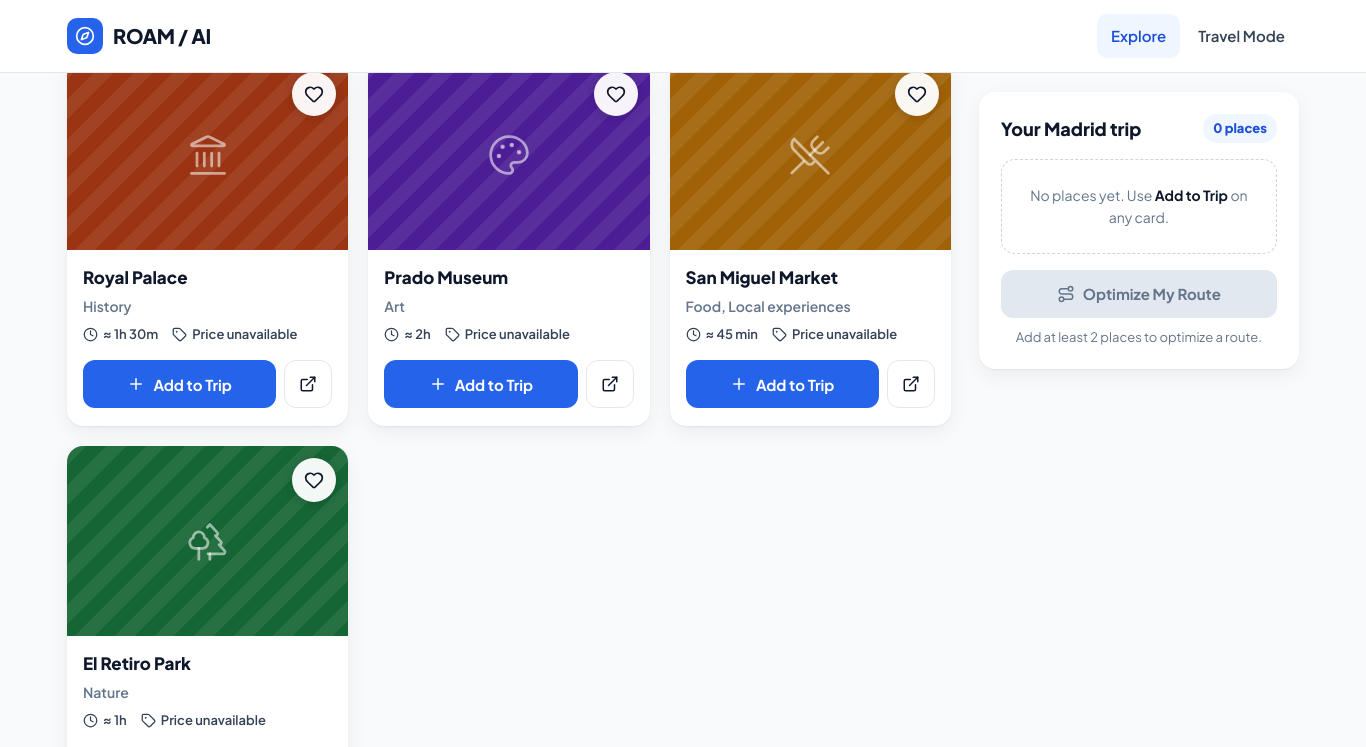
it: ExplorePage › adds places to the trip panel, totals the time, and saves them
(page scrolled)
Check: the link "Royal Palace" is shown, box 83,266 -> 188,288
Check: the text "No places yet. Use Add to Trip on any card." is shown, box 1001,160 -> 1277,254
Click the button with aria-label "Add Royal Palace to trip".
click(180, 384)  # box 83,360 -> 276,408
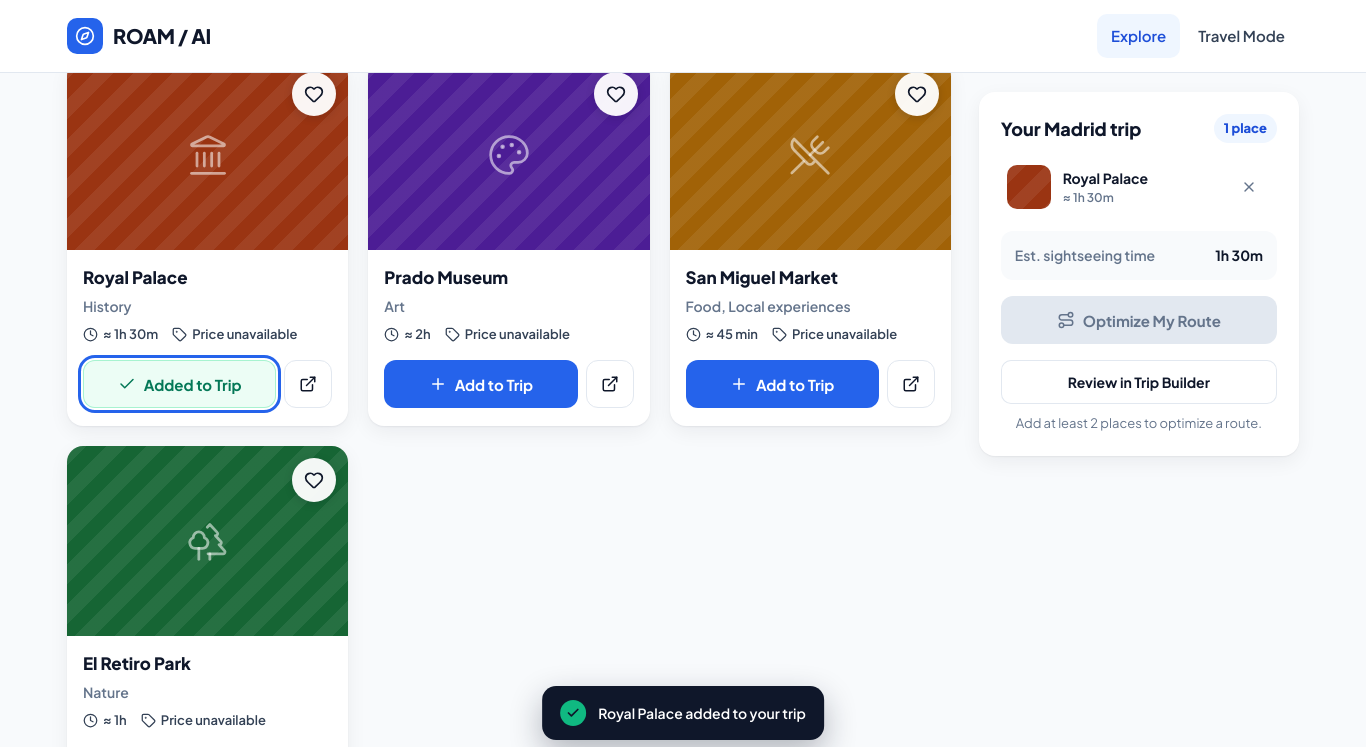
Check: the message reads "Royal Palace added to your trip", box 598,704 -> 806,722
Click the button with aria-label "Add Prado Museum to trip".
click(481, 384)  # box 384,360 -> 578,408
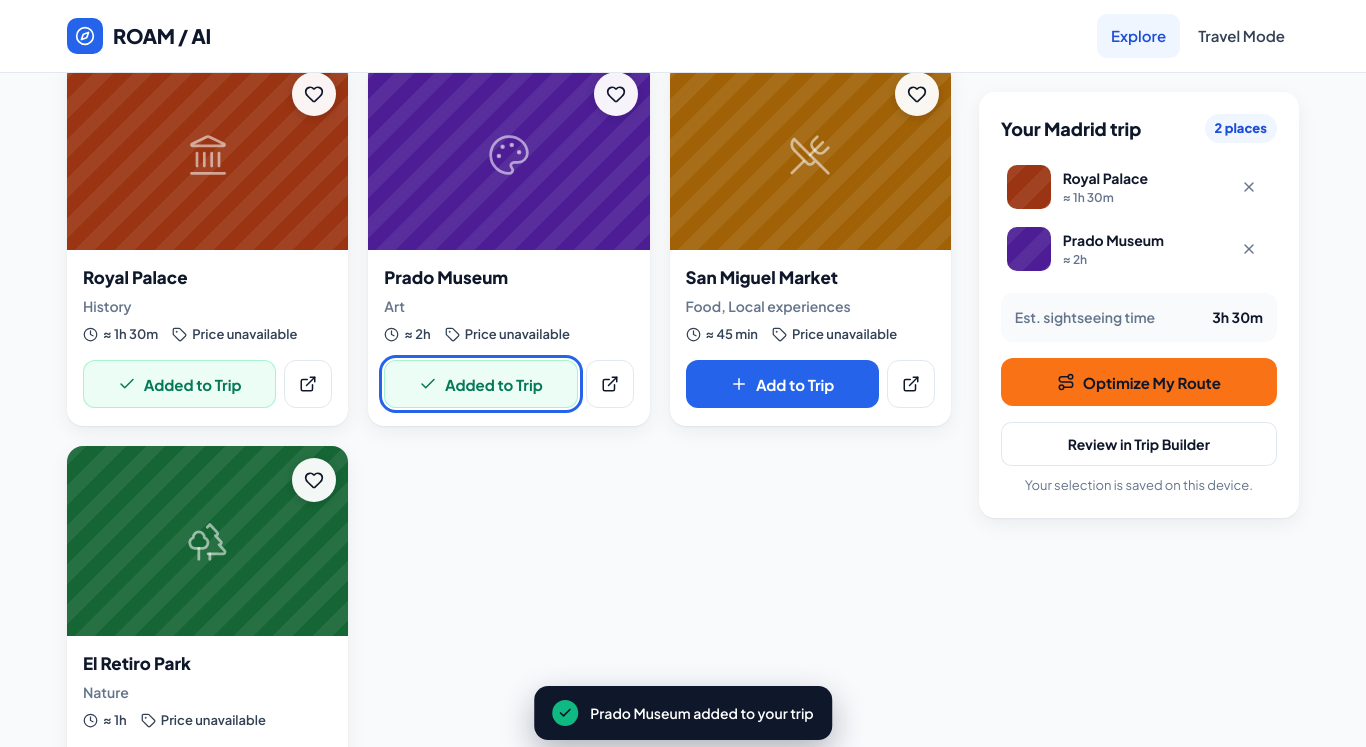
Check: the text "2 places" is shown, box 1205,114 -> 1277,144
Check: the text "3h 30m" is shown, box 1212,308 -> 1263,328
Click the button named "Remove Royal Palace".
click(1249, 188)  # box 1227,166 -> 1271,210
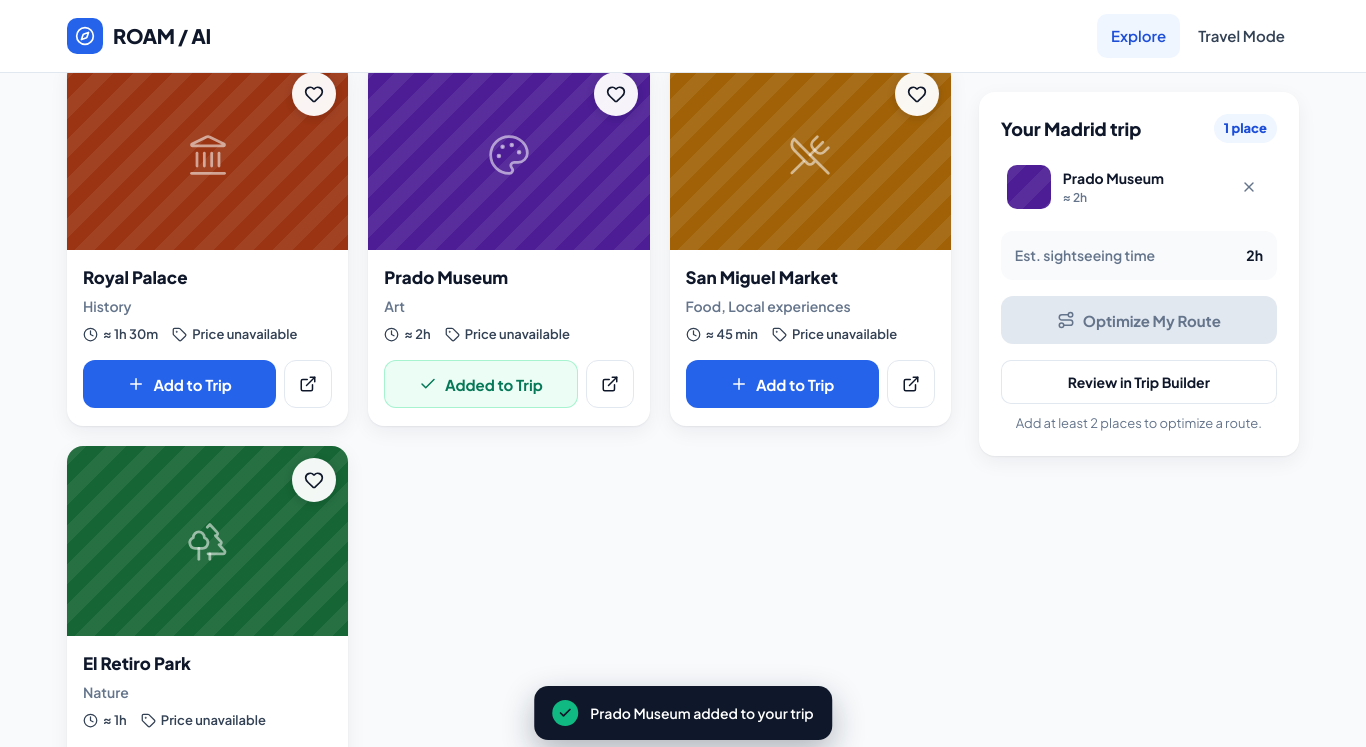
Check: the text "1 place" is shown, box 1214,114 -> 1277,144
